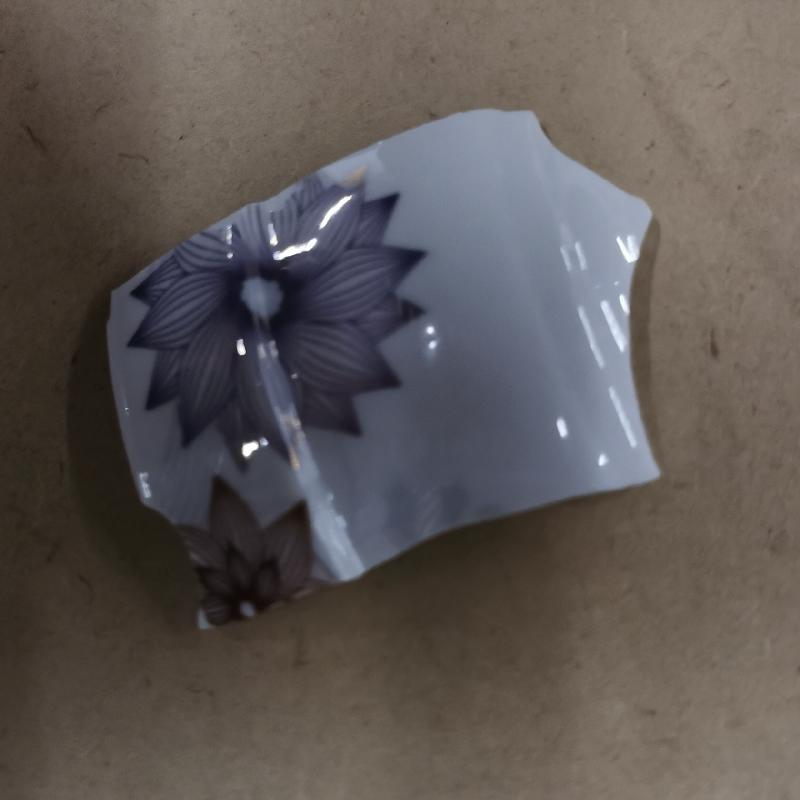ceram: (101, 107, 670, 634)
